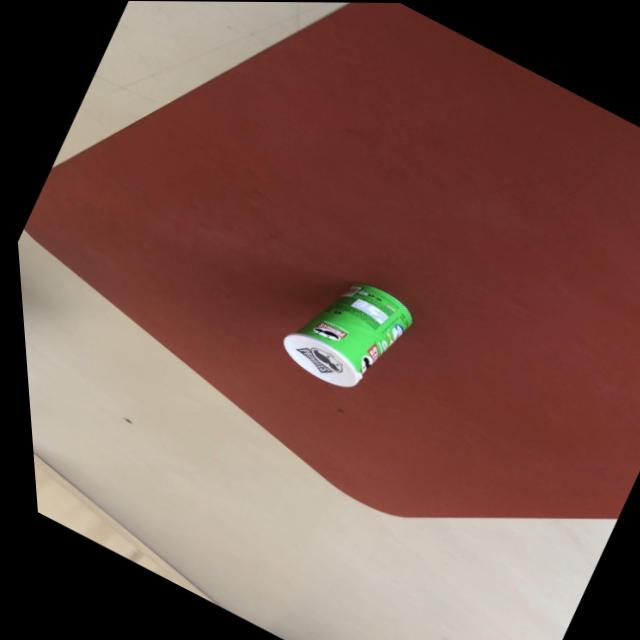a pringles: (263, 257, 422, 409)
